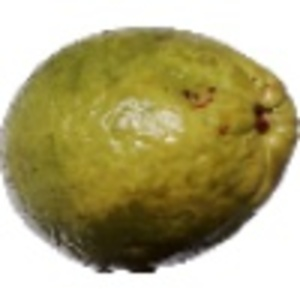goiaba: (3, 22, 295, 277)
